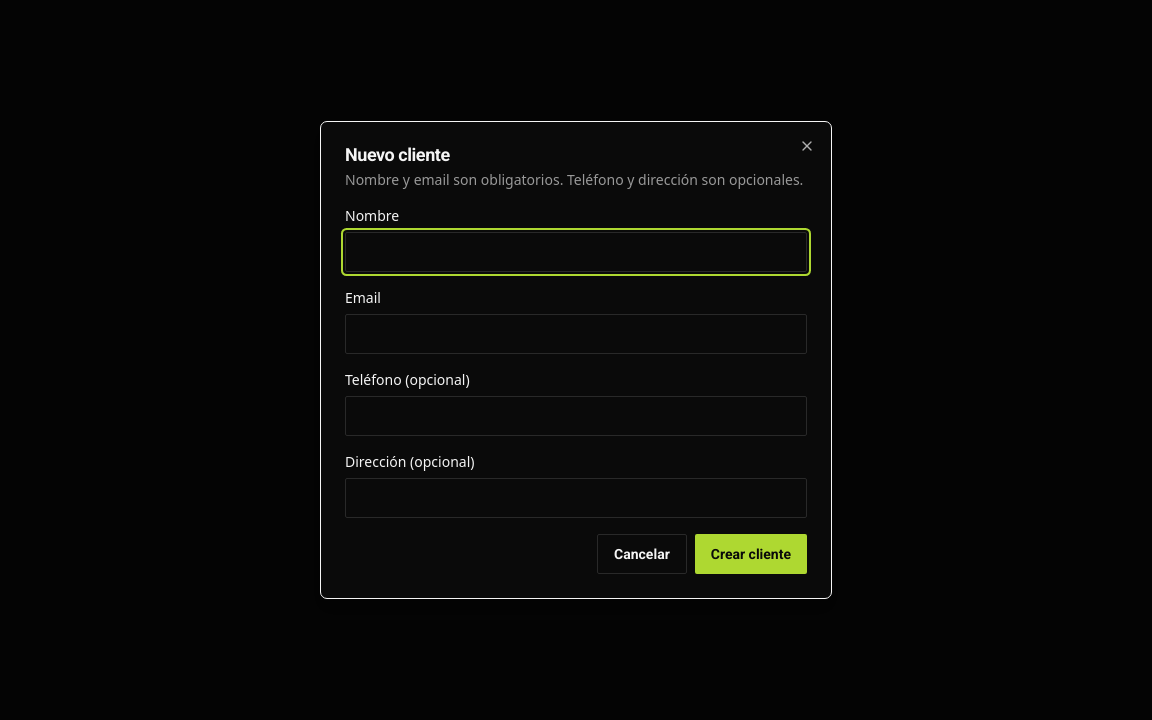
Test: ClientFormModal › rechaza un email con formato inválido
Type "Acme" into the field labelled "Nombre" at (576,252), box [345, 232, 807, 272]
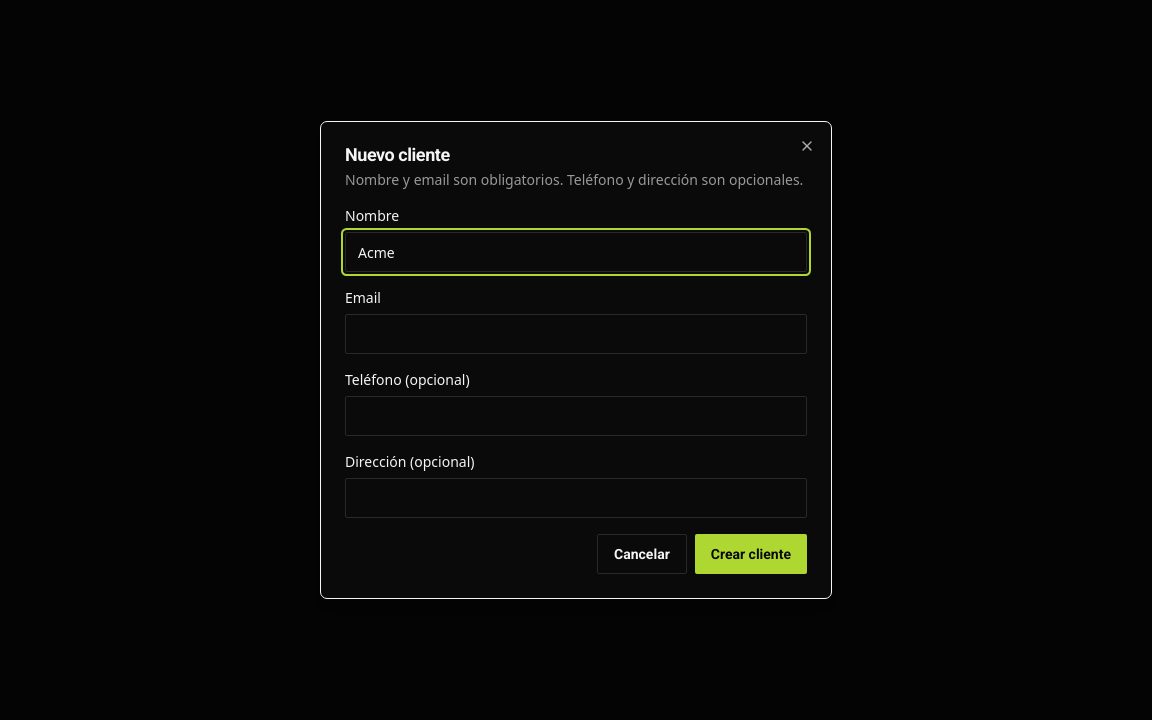
Type "no-es-email" into the field labelled "Email" at (576,334), box [345, 314, 807, 354]
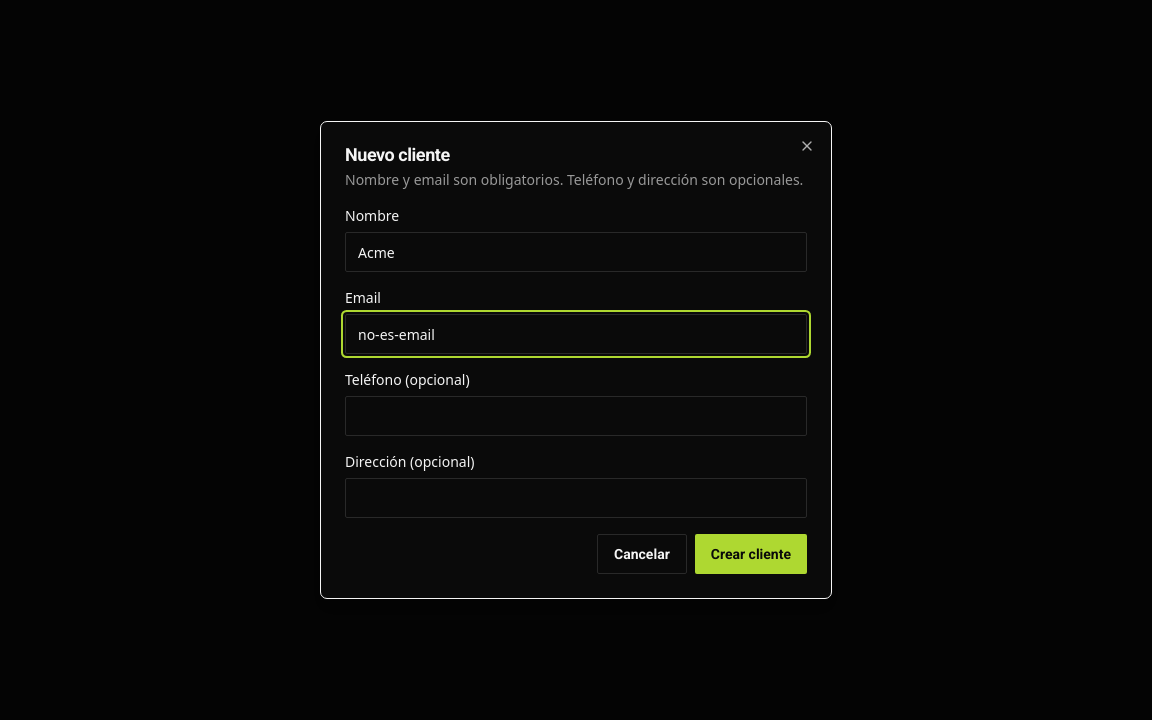
Click the button "Crear cliente" at (751,554), box [695, 534, 807, 574]
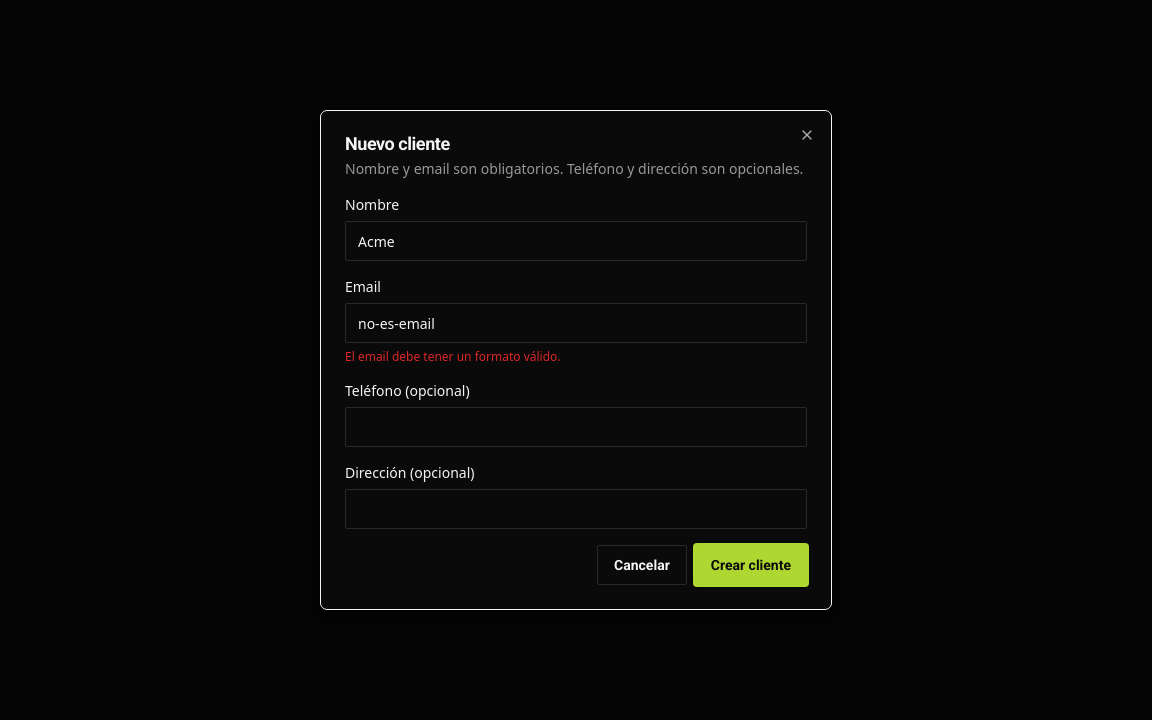
Result: the text "El email debe tener un formato válido." is shown at [345, 348, 560, 365]
